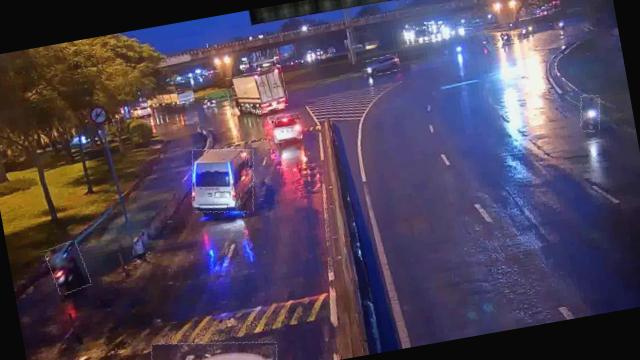Bike: (45, 239, 90, 295), (577, 93, 604, 132)
Bus: (184, 142, 260, 219)
Car: (147, 327, 280, 360), (268, 111, 303, 143), (362, 54, 400, 77)
Truck: (224, 68, 288, 115)
